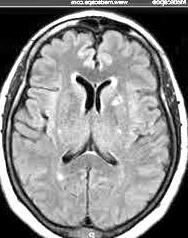Normal_Brain: (1, 1, 188, 238)
